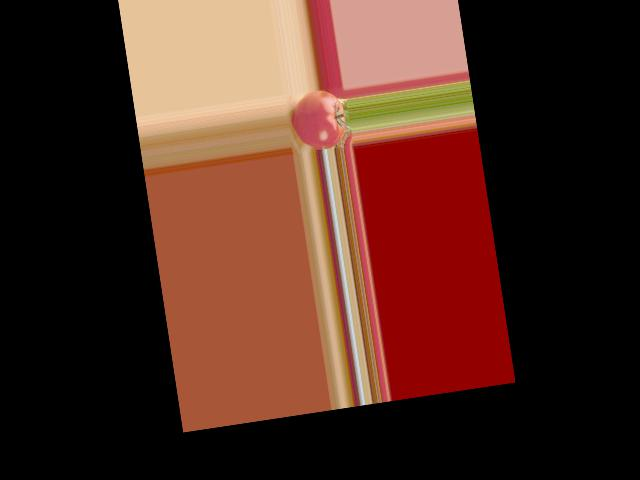tomato: (289, 87, 349, 152)
